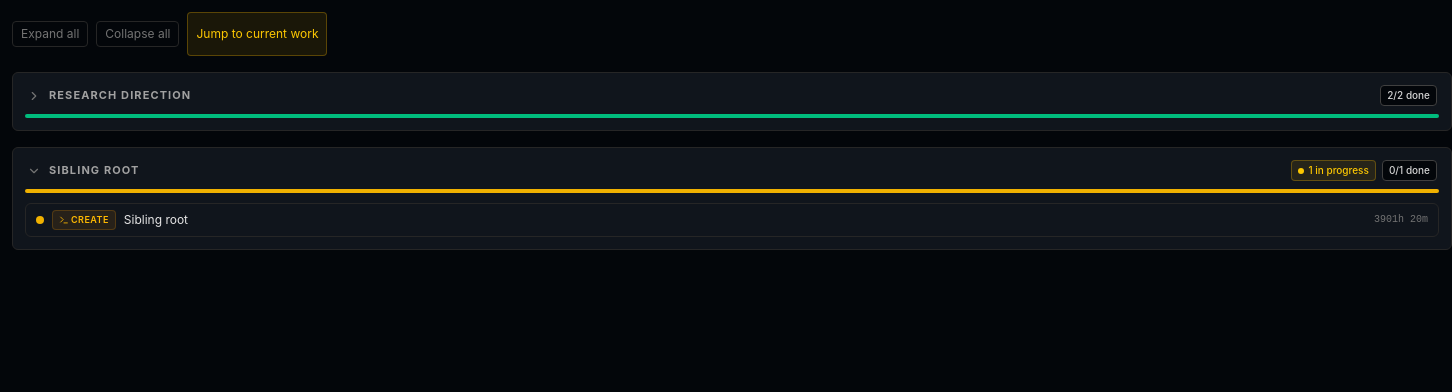
PipelineView side-car rendering › renders side-cars collapsed by default with an outcome badge on the primary
The width and height of the screenshot is (1452, 392).
Click the button "Expand all": (50, 34) [12,21,88,47]
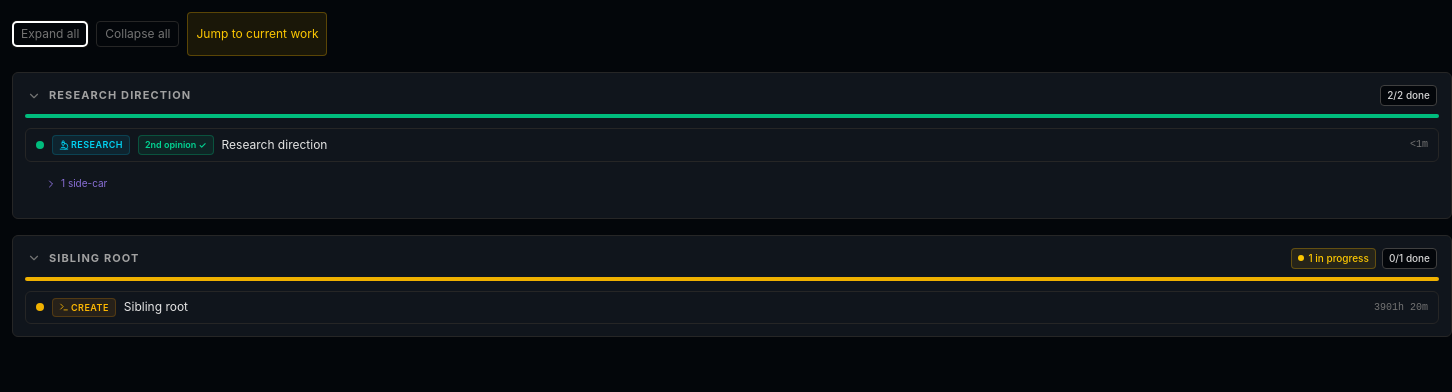
Check: the text "2nd opinion ✓" is shown, box [138,135,214,154]
Click the button "1 side-car": (76, 184) [45,162,107,206]
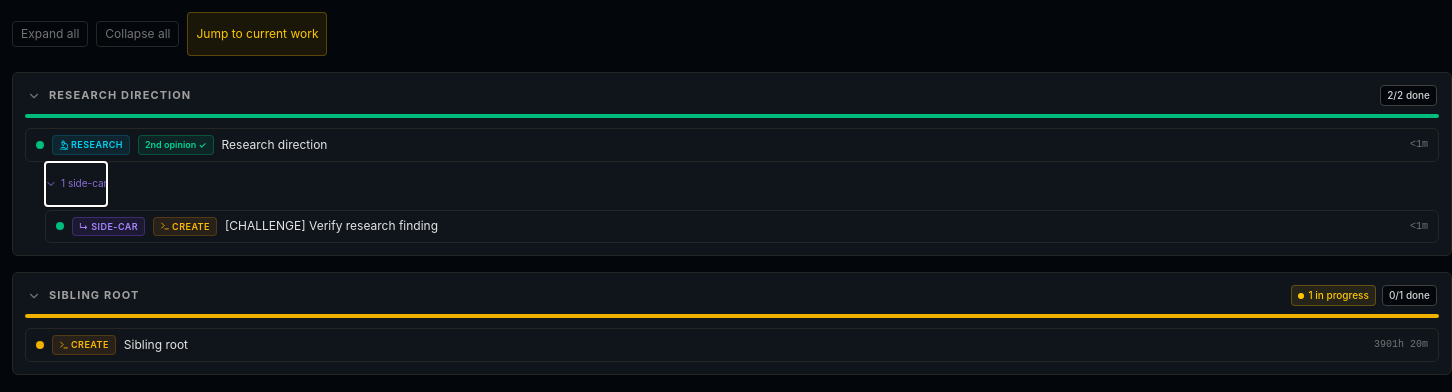
Check: the button "↳ side-car Create [CHALLENGE] Verify research finding <1m" is shown, box [45,210,1439,243]
Check: the text "↳ side-car" is shown, box [72,216,145,236]
